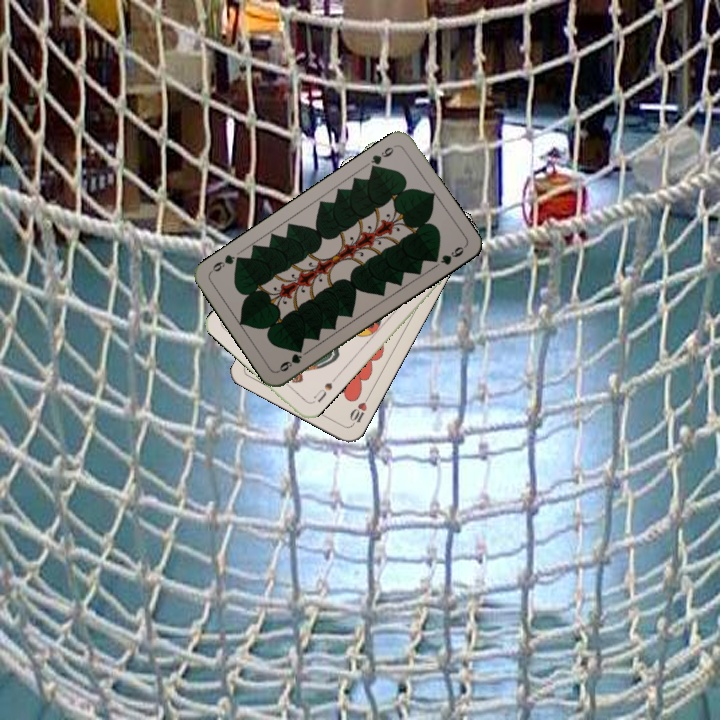G9: (366, 141, 398, 174), (275, 349, 305, 375)
H10: (346, 391, 372, 428)
SU: (309, 378, 335, 405)
